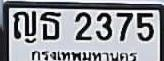2: (74, 11, 90, 39)
3: (95, 12, 111, 39)
5: (136, 12, 153, 40)
7: (116, 12, 132, 40)
A13: (12, 10, 36, 38)
A24: (39, 11, 60, 39)
BKK: (30, 48, 139, 61)
